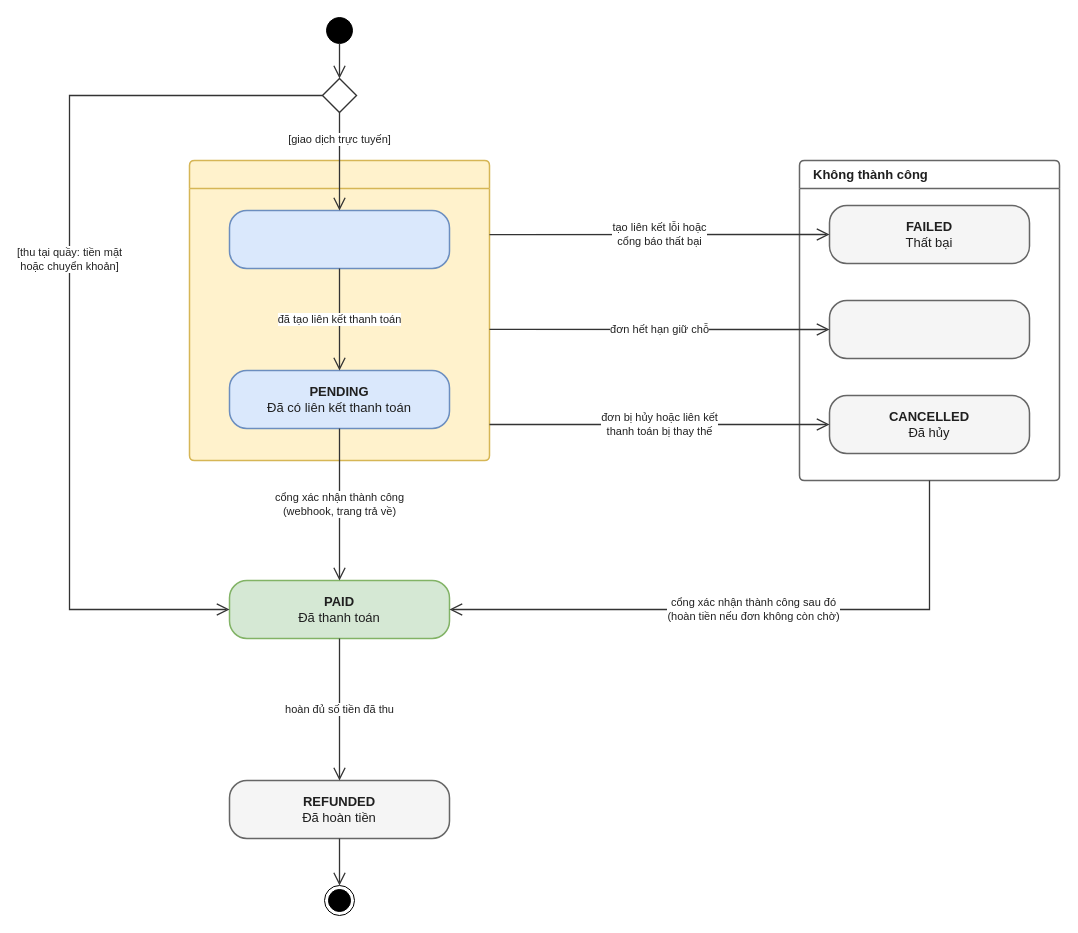
The diagram is 1078 pixels wide and 933 high, and some of its shapes have lost their labels. The box of each missing label's shape, as (x1, y1, x2, y2) in pixels:
Chờ thanh toán: (188, 159, 490, 461)
EXPIRED Hết hạn: (828, 299, 1030, 359)
INITIATED Mới tạo: (228, 209, 450, 269)
